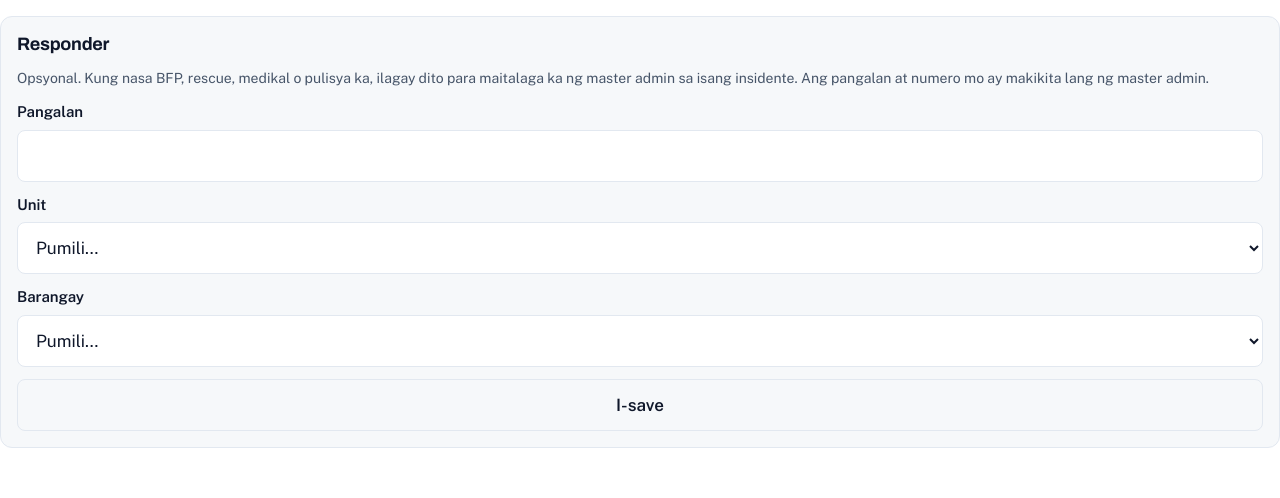
Test case: ResponderField › writes name, unit and barangay to the caller's own profile
The image size is (1280, 498).
Type "Ana Reyes" into the field labelled "Pangalan" at (640, 156), box [17,130,1263,182]
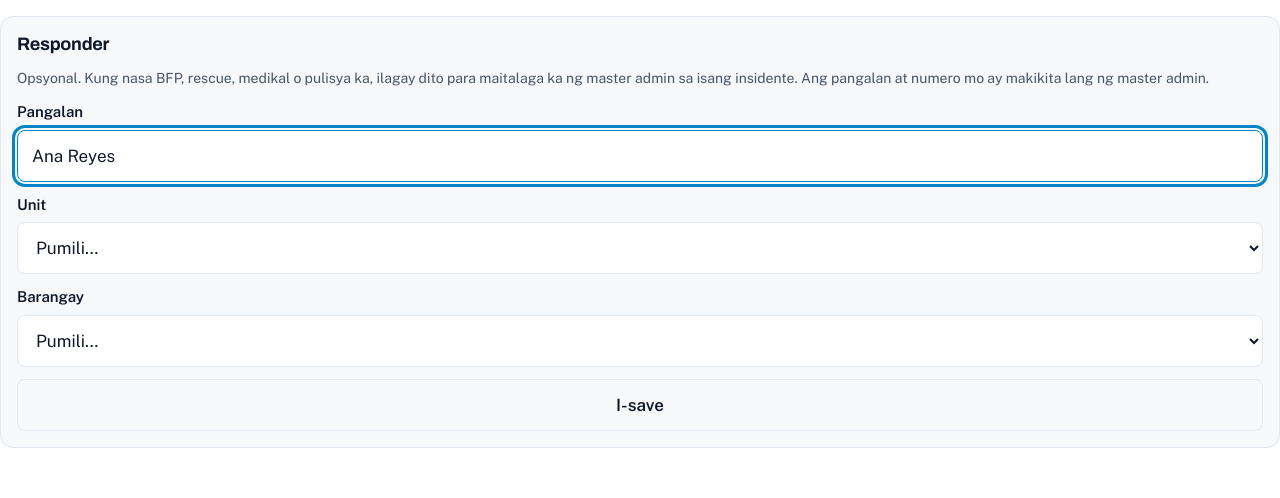
Select "BFP" in the dropdown labelled "Unit" at (640, 248), box [17,222,1263,274]
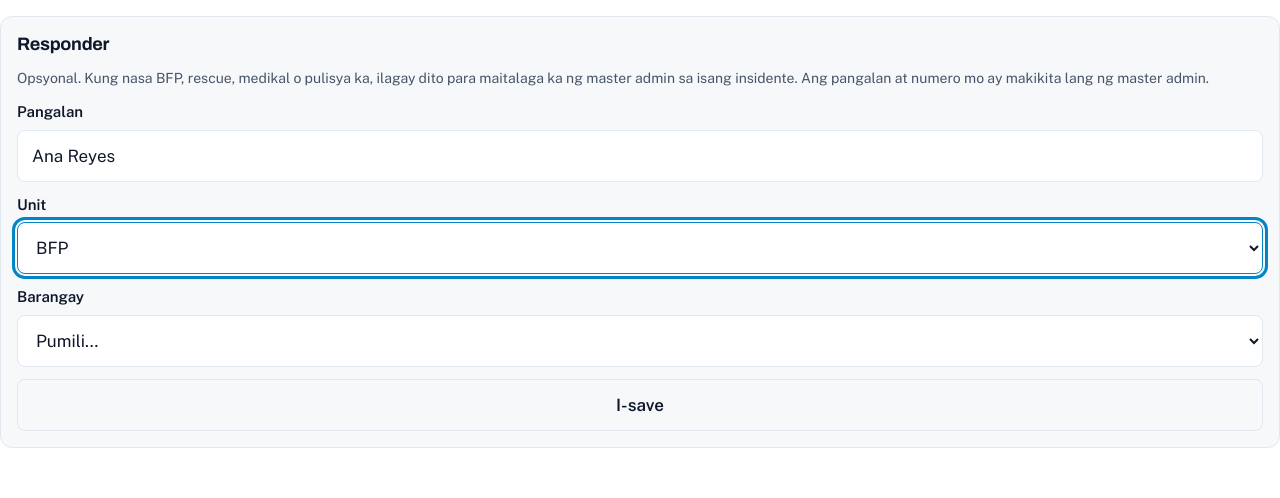
Select "Malanday" in the dropdown labelled "Barangay" at (640, 341), box [17,315,1263,367]
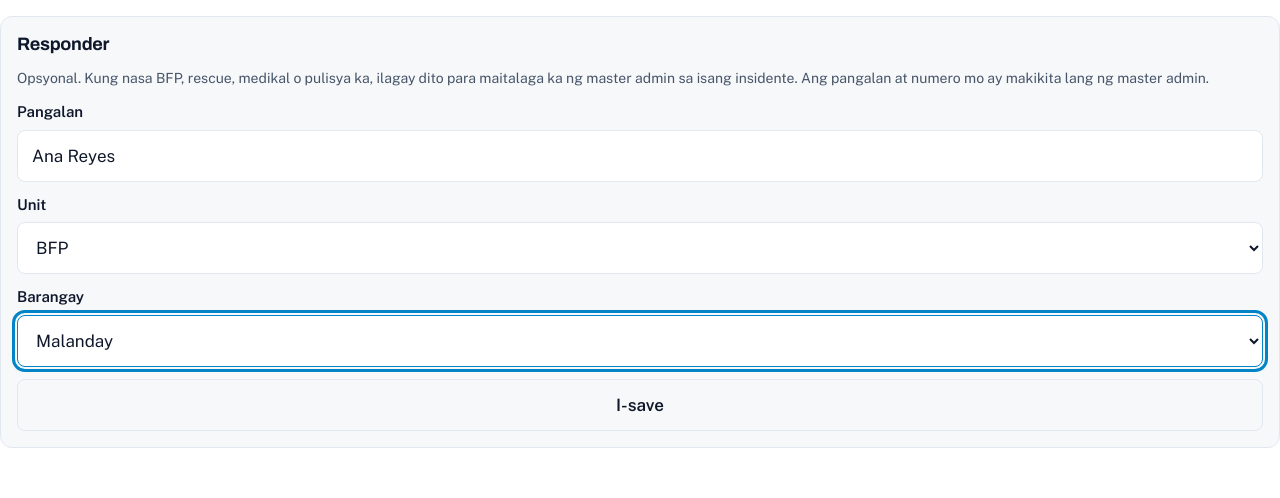
Click the button "I-save" at (640, 405), box [17,379,1263,431]
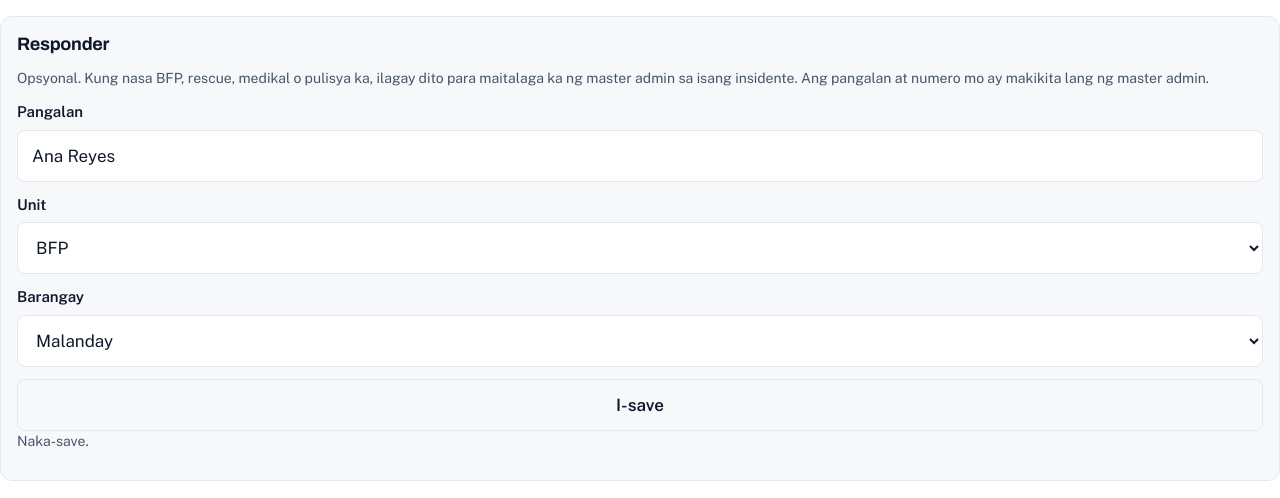
Expected: the text "Naka-save." is shown, [17,433,89,449]
